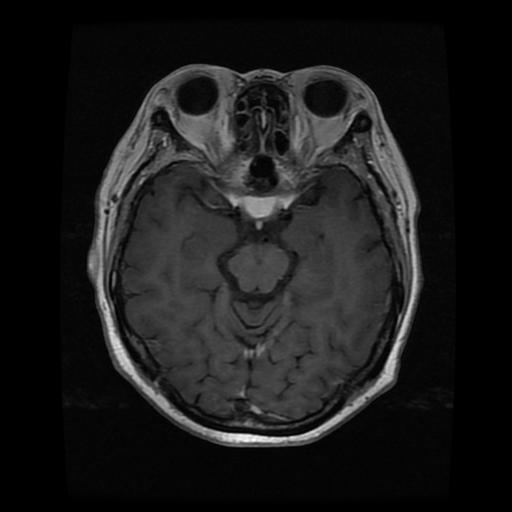Menigiomia_tumour: (237, 194, 276, 217)
